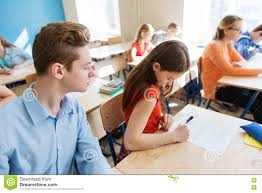student_copying: (11, 14, 137, 174), (104, 39, 203, 163)
